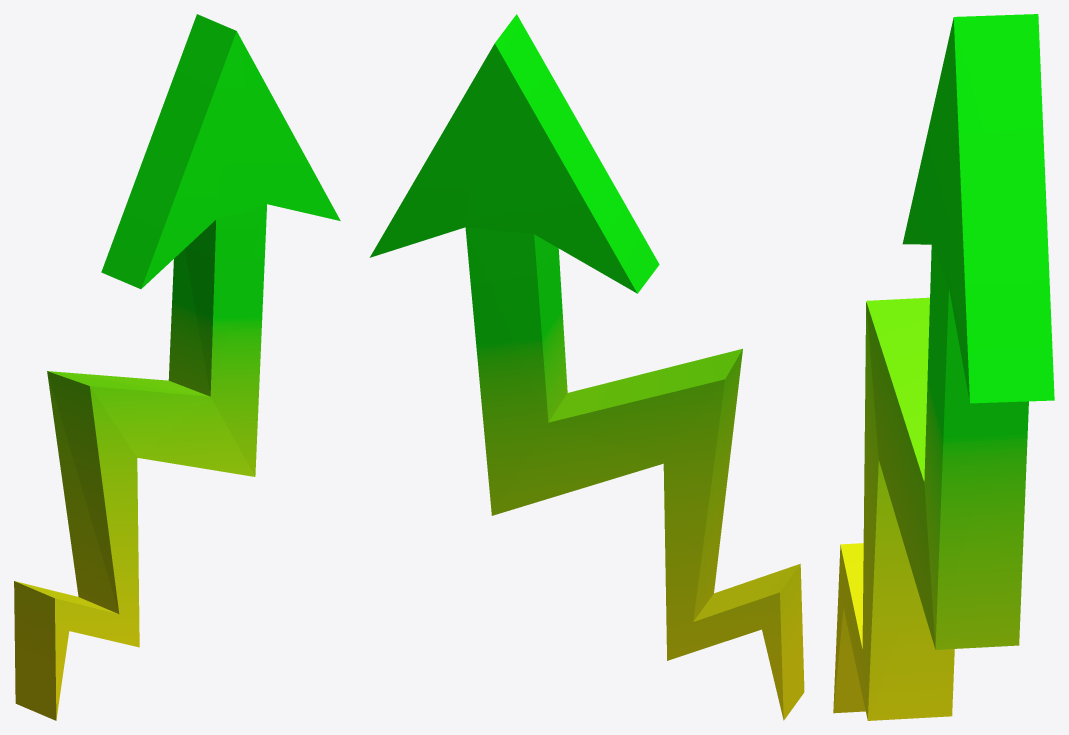
Rendered from maxpoinst.obj.
The picture shows the model from 3 angles, left to right: view 1: azimuth 30°, elevation 25°; view 2: azimuth 150°, elevation 25°; view 3: azimuth 270°, elevation 25°; orthographic projection. The views are drawn at different scales.
Parts seen in each view (by area): view 1: maxpoins; view 2: maxpoins; view 3: maxpoins.
Boxes of the visible parts, left/top/right/bottom form: maxpoins: left=14, top=14, right=340, bottom=720; maxpoins: left=369, top=14, right=804, bottom=720; maxpoins: left=833, top=14, right=1054, bottom=720.
Bounding box in the file's own units: 2.5 × 4.21 × 0.9919.
Materials: 1 (1 with a texture image).
